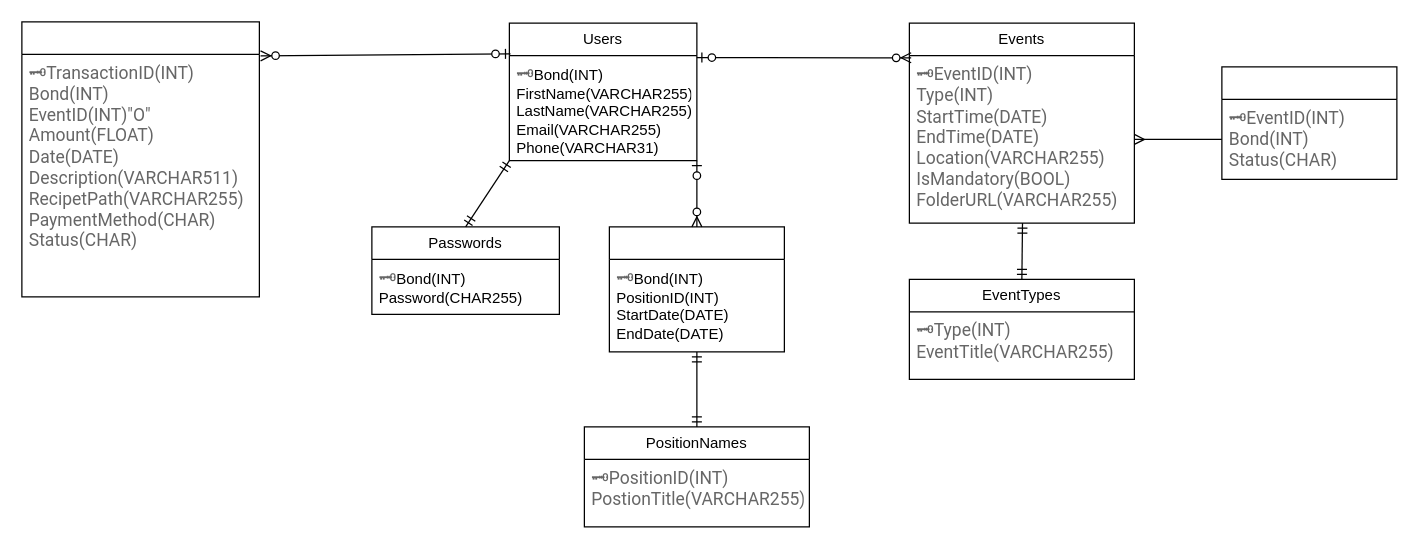
The diagram is 1419 pixels wide and 553 high, and some of its shapes have lost their labels. Here are the shapes that lost their labels. From the top down, the box of each, then its label:
(1221, 66, 1397, 179): Attendance
(21, 21, 259, 297): Transactions
(608, 226, 784, 352): Officers
